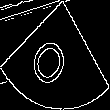O_NE: (31, 22, 79, 88)
